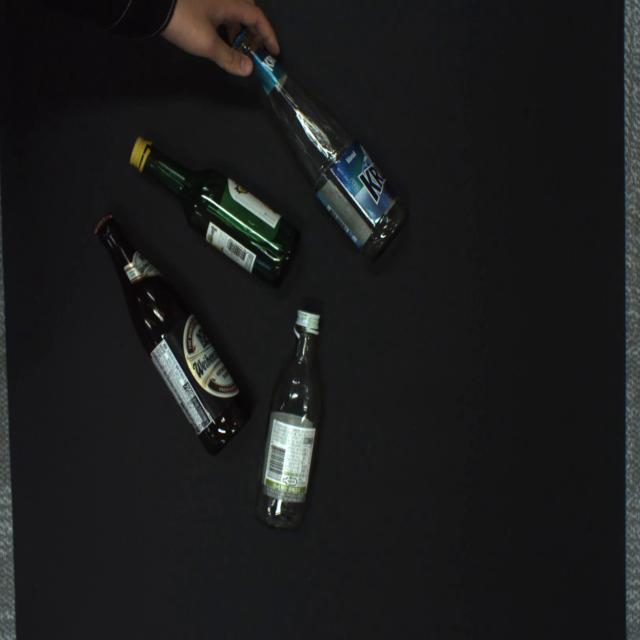beer-bottle: (230, 28, 408, 263), (95, 214, 250, 455)
soju-bottle: (130, 138, 300, 287), (255, 310, 322, 532)
